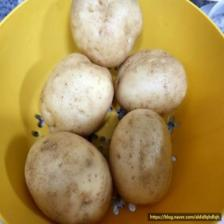Potato: (24, 129, 112, 224), (108, 106, 174, 208), (40, 52, 114, 136), (68, 0, 144, 67), (115, 49, 189, 114)
